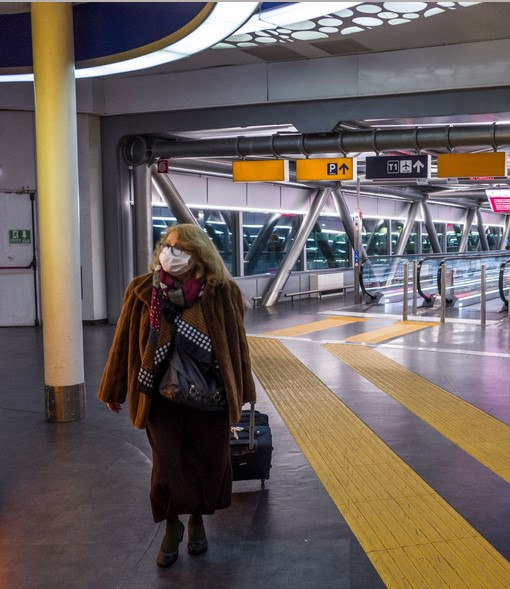face_with_mask: (154, 222, 220, 279)
